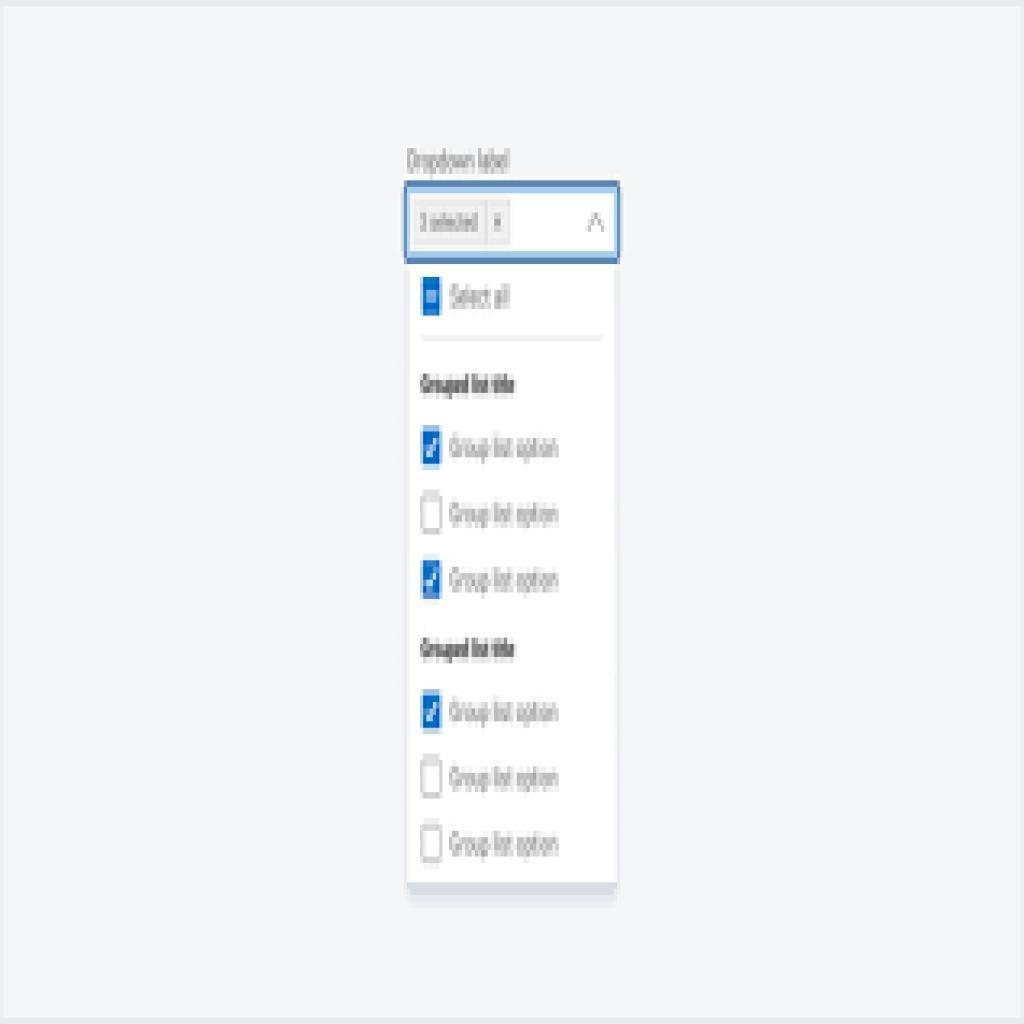checkbox: (418, 754, 446, 800), (420, 823, 444, 864), (421, 425, 443, 467), (421, 560, 443, 599), (421, 493, 443, 531), (423, 693, 441, 730)
dropdown: (405, 182, 621, 265)
icon: (421, 277, 443, 318)
